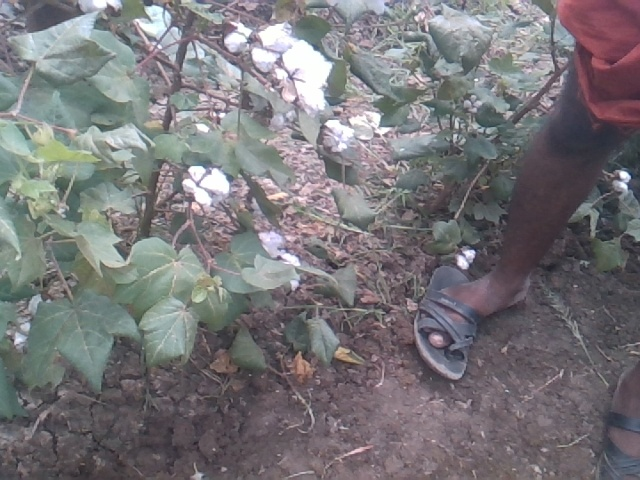cotton: (283, 40, 339, 111), (181, 163, 231, 214), (222, 18, 257, 56), (321, 119, 354, 154), (348, 112, 383, 145), (454, 245, 478, 271), (613, 170, 636, 196)
